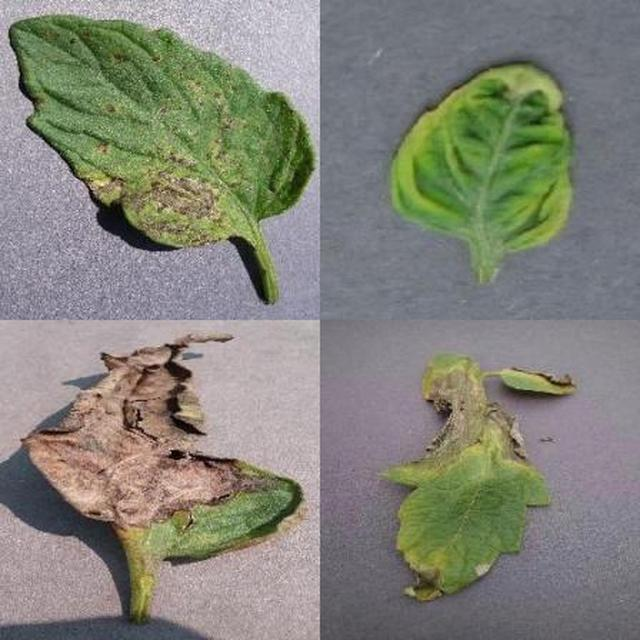Septoria Leaf: (113, 57, 640, 640)
